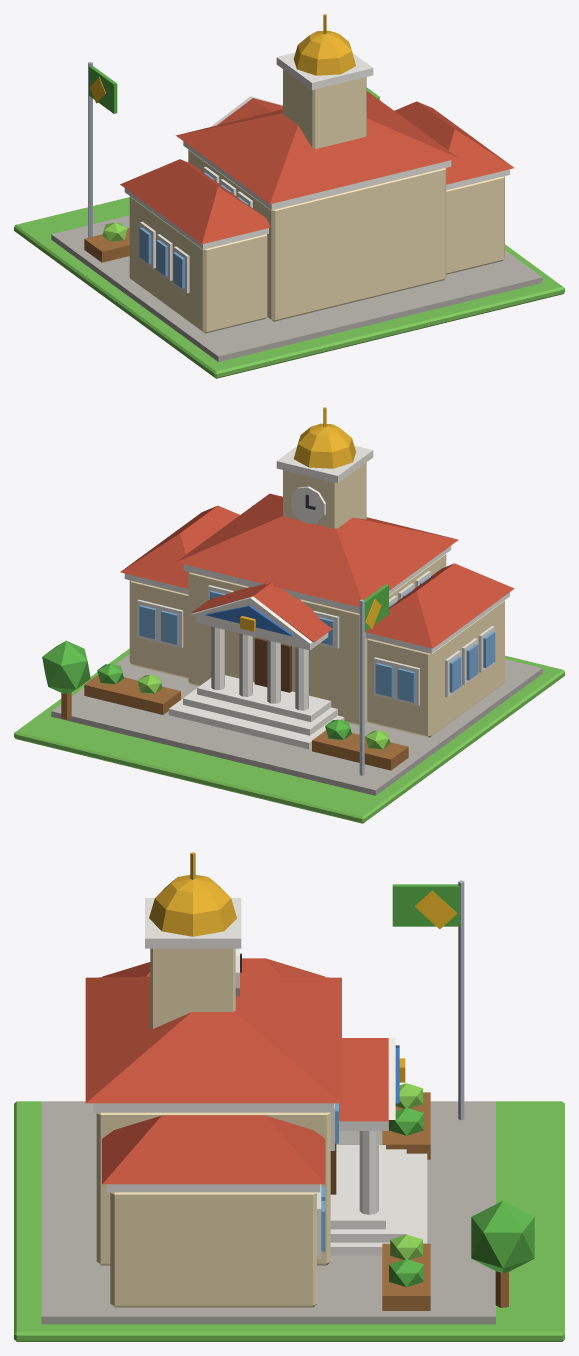
File: city_hall.glb
3 renders of one model, top to bottom at view 1: azimuth 30°, elevation 25°; view 2: azimuth 150°, elevation 25°; view 3: azimuth 270°, elevation 25°, orthographic. The views are drawn at different scales.
Parts seen in each view (by area): view 1: corpo; view 2: corpo; view 3: corpo.
Boxes of the visible parts, <box> form: corpo: <box>14,14,564,378</box>; corpo: <box>14,407,564,823</box>; corpo: <box>14,852,564,1341</box>.
Bounding box in the file's own units: 4 × 2.99 × 4.
